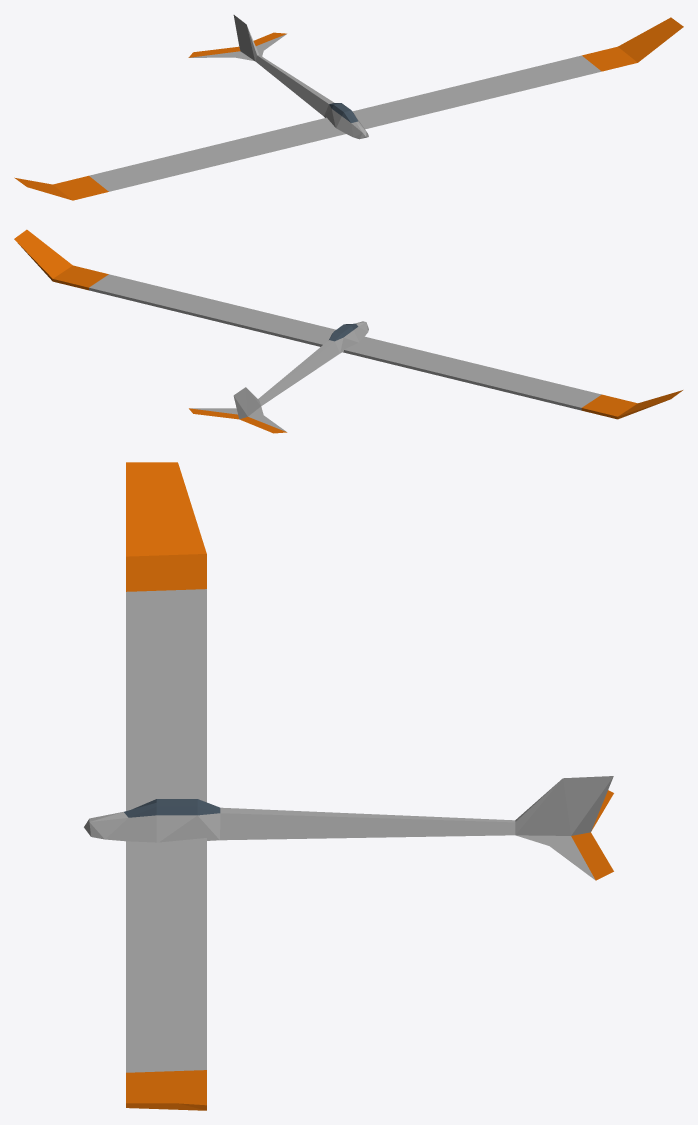
File: Glider.fbx
The picture shows the model from 3 angles, top to bottom: view 1: azimuth 30°, elevation 25°; view 2: azimuth 150°, elevation 25°; view 3: azimuth 270°, elevation 25°; orthographic projection. The views are drawn at different scales.
Parts seen in each view (by area): view 1: Glider; view 2: Glider; view 3: Glider.
Part boxes in pixels (left/top/right/bottom): Glider: left=14, top=15, right=683, bottom=200; Glider: left=14, top=229, right=682, bottom=433; Glider: left=84, top=462, right=613, bottom=1110.
Size of the model in its own units: 10 by 0.4299 by 3.5.
